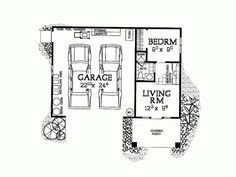room: (49, 21, 139, 120), (131, 23, 184, 119)
wall: (50, 24, 181, 31), (132, 29, 138, 121), (49, 40, 55, 118), (146, 58, 180, 66), (178, 54, 182, 117)
window: (145, 113, 172, 122), (175, 37, 185, 54)
